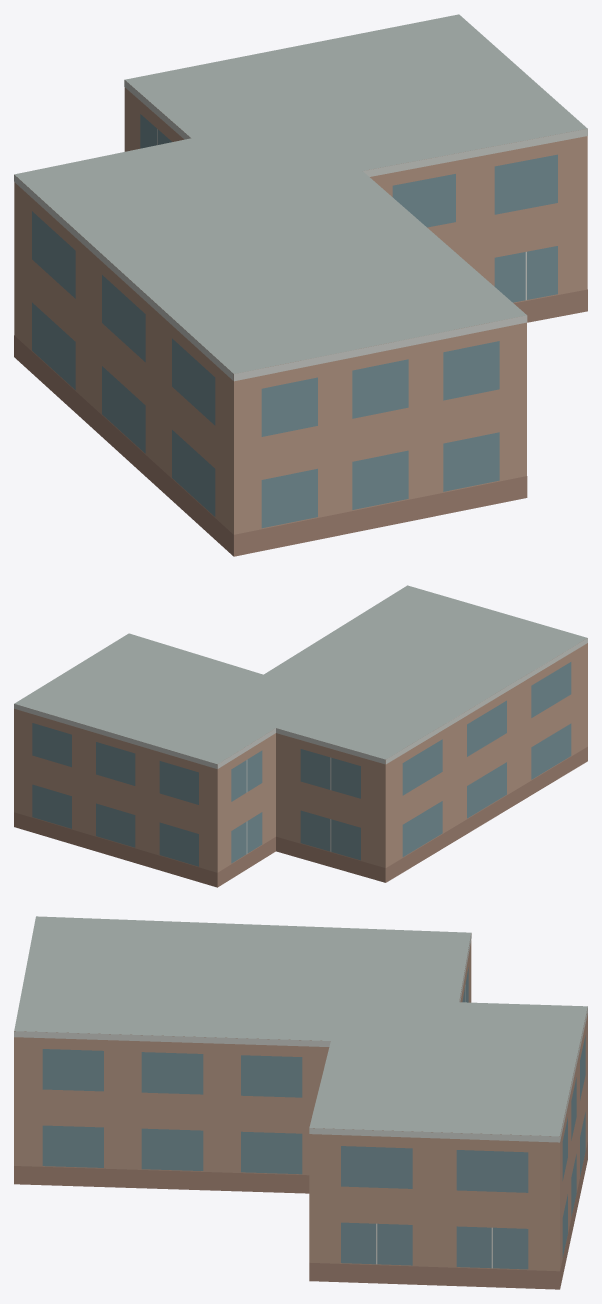
File: survey-upis-32503820.glb
3 views of the same model, one above another, from view 1: azimuth 30°, elevation 25°; view 2: azimuth 150°, elevation 25°; view 3: azimuth 270°, elevation 25° (orthographic). The views are drawn at different scales.
Visible parts, largest first — view 1: survey-upis-32503820.tmp; view 2: survey-upis-32503820.tmp; view 3: survey-upis-32503820.tmp.
Part boxes in pixels (left/top/right/bottom): survey-upis-32503820.tmp: left=14, top=14, right=587, bottom=556; survey-upis-32503820.tmp: left=14, top=585, right=587, bottom=887; survey-upis-32503820.tmp: left=14, top=916, right=587, bottom=1289.
Bounding box in the file's own units: 18.81 × 6.1 × 20.72.
